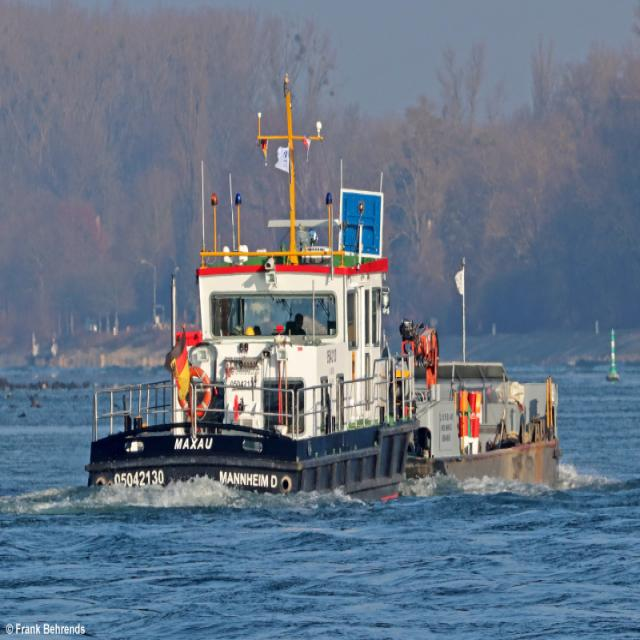tugboat: (79, 184, 441, 525)
